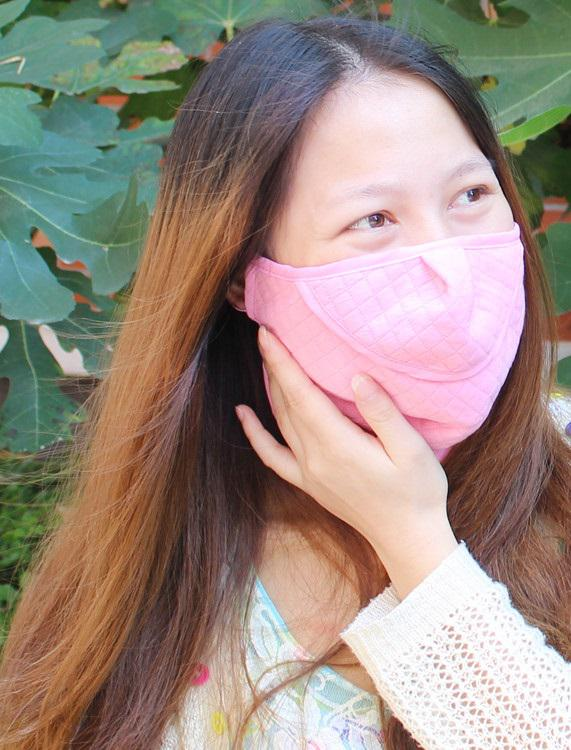OK: (282, 165, 530, 413)
